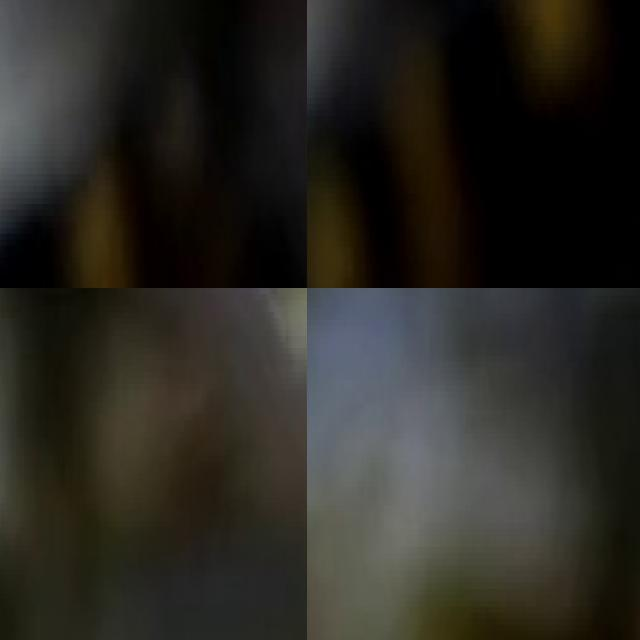fish: (0, 0, 307, 288), (0, 485, 307, 640)
